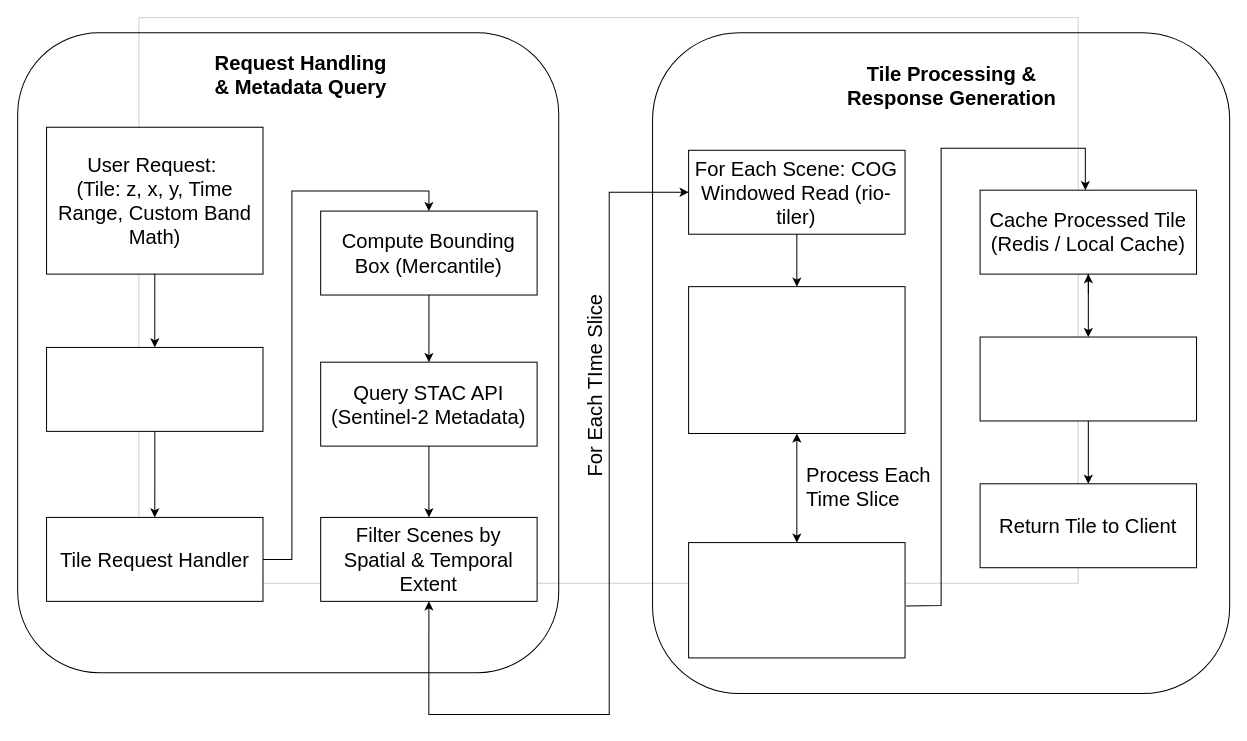
Some shapes in this 1247 by 741 pixel diagram are drawn without their labels. The shapes that lost their labels are listed below. From the top down, each one's centre as x and y in pixels, then its label:
[796,359]: Apply User-defined Computation (NDVI, Band Math, Cloud Masking)
[1088,378]: Format Response (PNG / JPEG)
[154,388]: FastAPI Endpoint
[796,600]: Assemble Virtual Data Cube (Tile Hierarchy & History)
